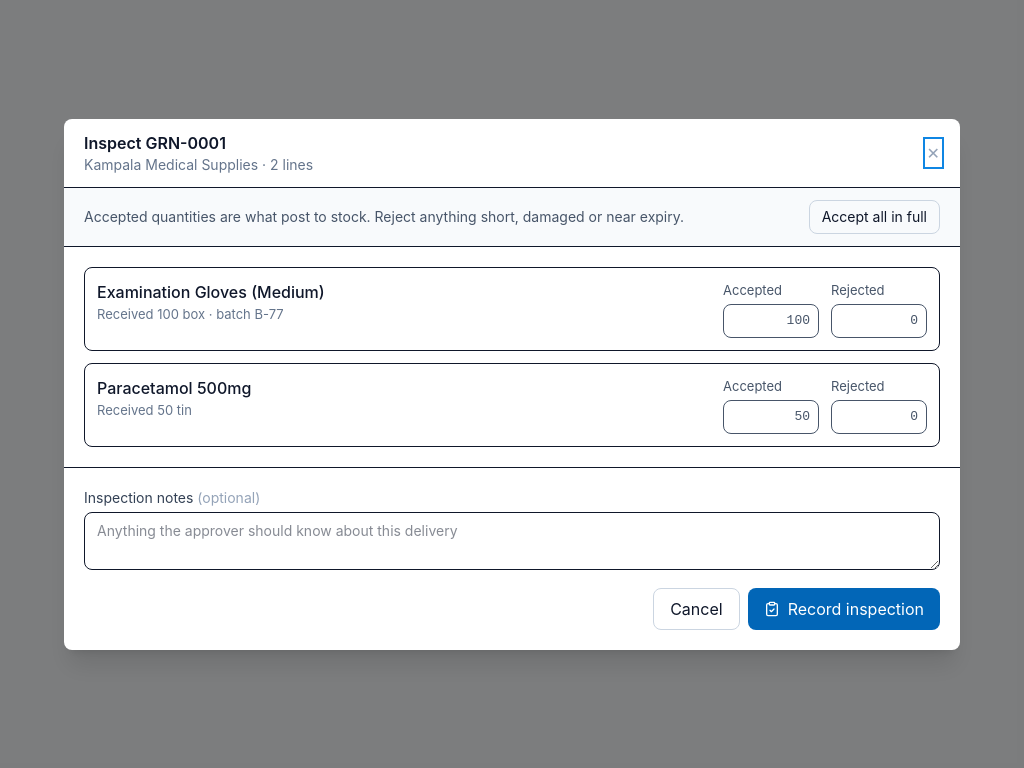
Test: InspectGRNModal › will not accept more than was received
The image size is (1024, 768).
Clear the number field labelled "Accepted" in the row of "· batch B-77": (771, 320) x1=723 y1=304 x2=819 y2=338
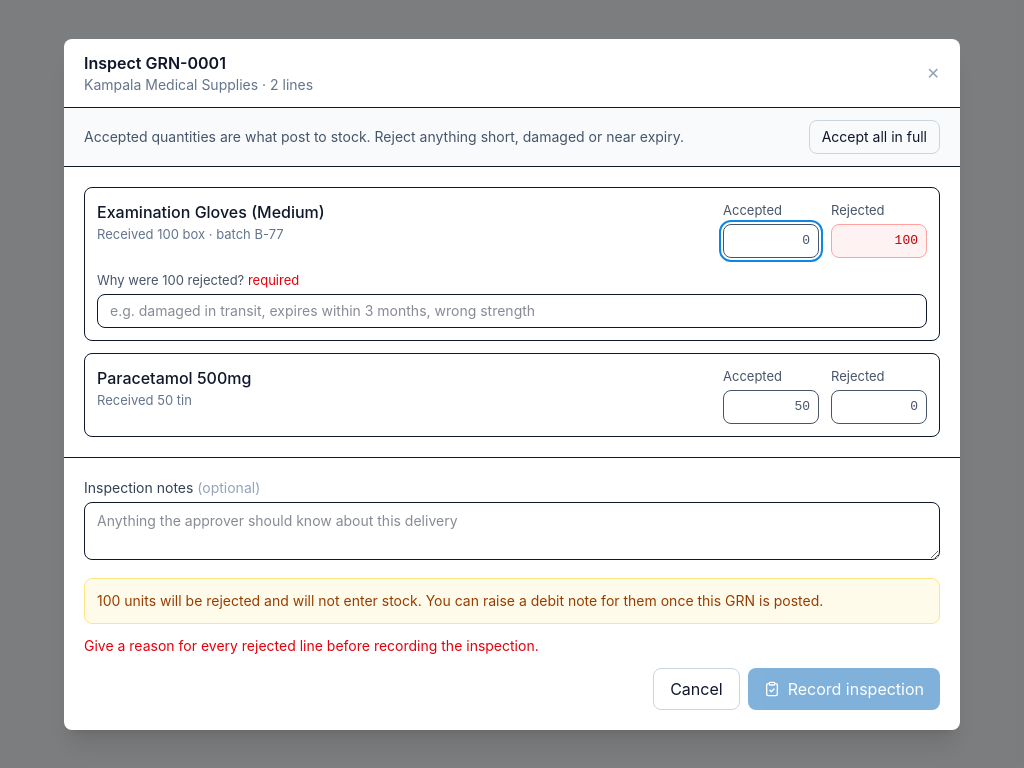
In the number field labelled "Accepted" in the row of "· batch B-77": (771, 240) x1=723 y1=224 x2=819 y2=258, type "500"
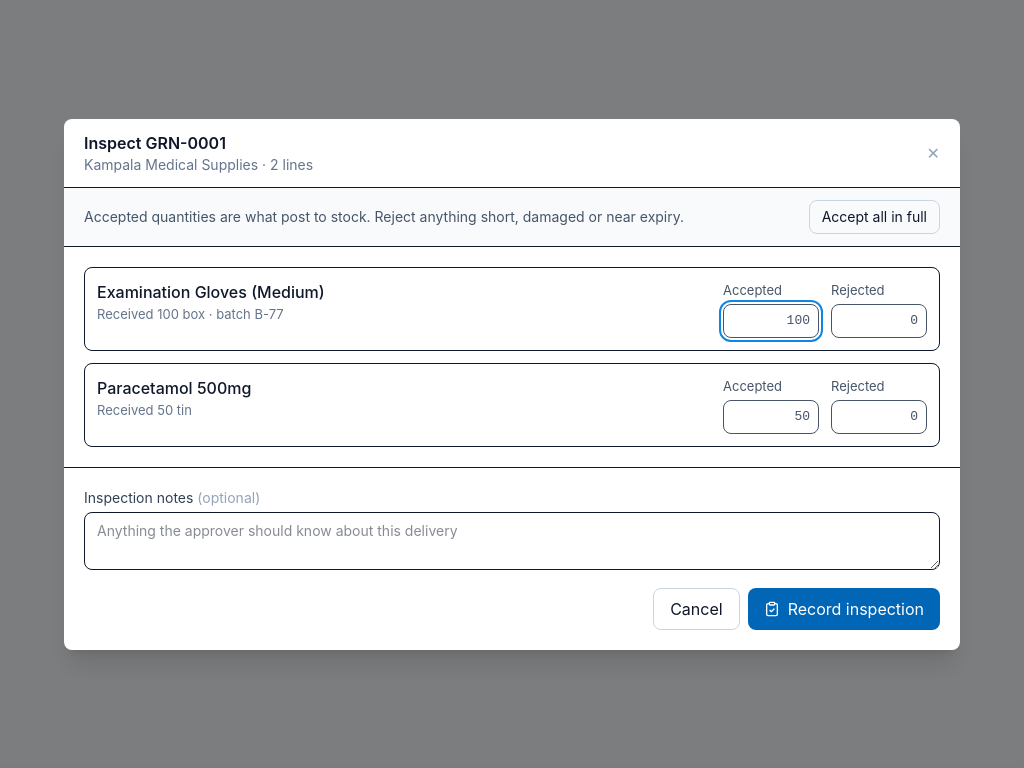
Expected: the number field labelled "Accepted" in the row of "· batch B-77" holds "100", x1=723 y1=304 x2=819 y2=338
